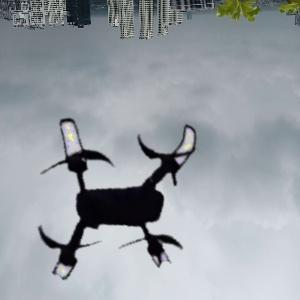drone: (13, 86, 218, 291)
